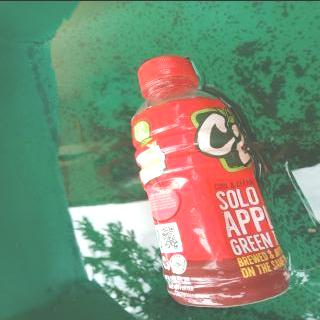bottle: (129, 55, 290, 308)
